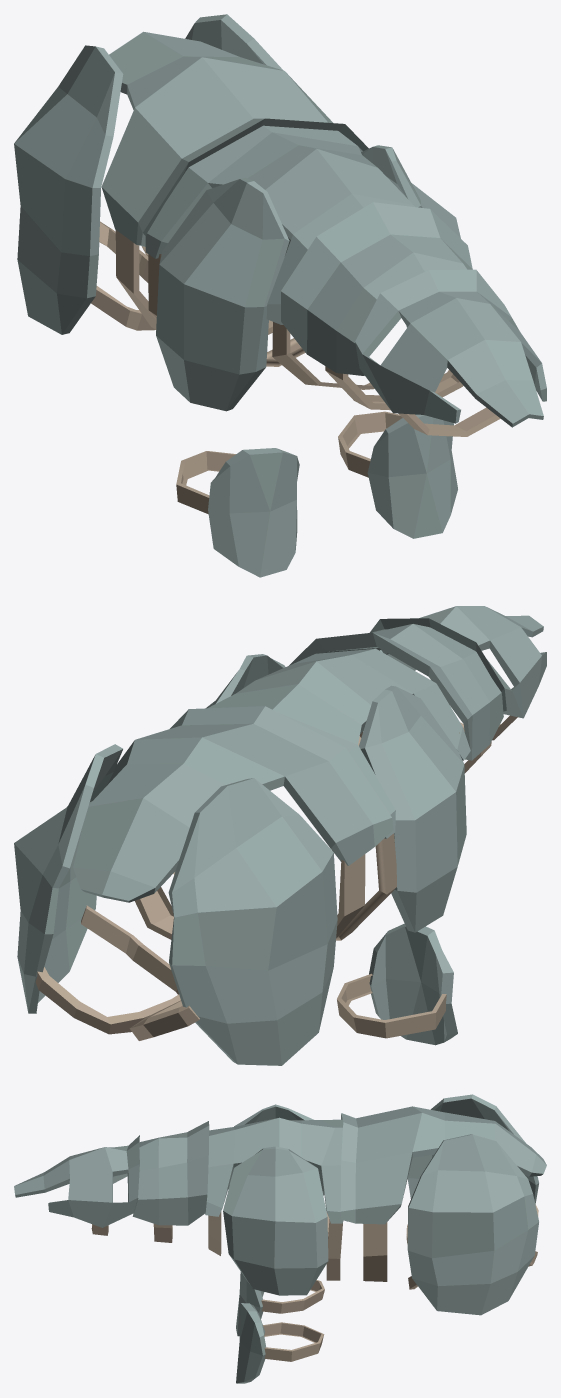
Rendered from armor.fbx.
The picture shows the model from 3 angles, top to bottom: view 1: azimuth 30°, elevation 25°; view 2: azimuth 150°, elevation 25°; view 3: azimuth 270°, elevation 25°; orthographic projection. The views are drawn at different scales.
Parts seen in each view (by area): view 1: armor; view 2: armor; view 3: armor.
Boxes of the visible parts, box(x1,y1,x2,y2) form: armor: box(14, 14, 546, 577); armor: box(14, 606, 546, 1065); armor: box(14, 1094, 546, 1383).
Size of the model in its own units: 576 by 782 by 1555.
